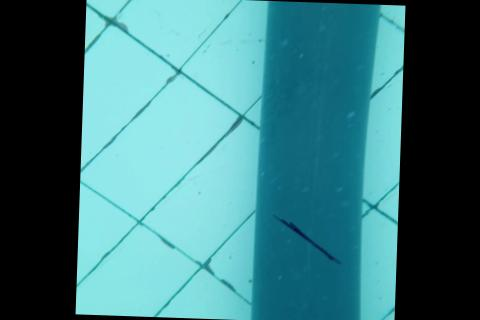keretakan: (268, 216, 343, 265)
